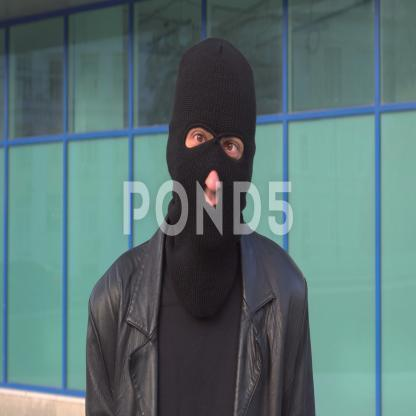criminal: (85, 37, 316, 416)
